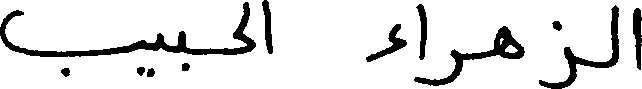ء: (365, 21, 407, 61)
ا: (259, 0, 274, 55), (417, 2, 429, 63), (631, 5, 640, 69)
ب: (0, 7, 143, 77), (177, 29, 191, 72)
ح: (222, 33, 254, 60)
ر: (426, 47, 462, 86)
ز: (539, 19, 576, 88)
ل: (230, 0, 253, 36), (609, 2, 618, 66)
ه: (494, 24, 525, 59)
ي: (137, 30, 164, 76)
